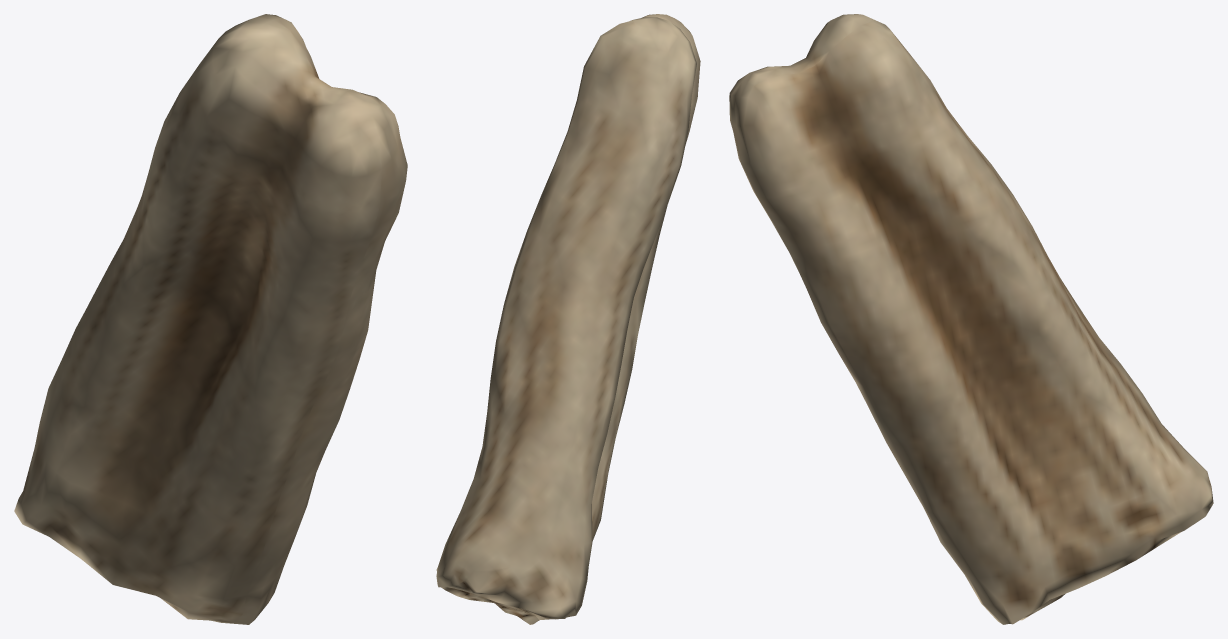
The model's file is Maxilary_Premolar2.glb.
3 views of the same model, side by side, from view 1: azimuth 30°, elevation 25°; view 2: azimuth 150°, elevation 25°; view 3: azimuth 270°, elevation 25° (orthographic). The views are drawn at different scales.
Visible parts, largest first — view 1: Maxilary_Premolar2.glb; view 2: Maxilary_Premolar2.glb; view 3: Maxilary_Premolar2.glb.
Part boxes in pixels (x1,y1,x2,y2): Maxilary_Premolar2.glb: [14, 14, 407, 624]; Maxilary_Premolar2.glb: [436, 14, 700, 624]; Maxilary_Premolar2.glb: [729, 14, 1213, 624].
Size of the model in its own units: 0.023 by 0.0754 by 0.0573.
1 material, 1 textured.
